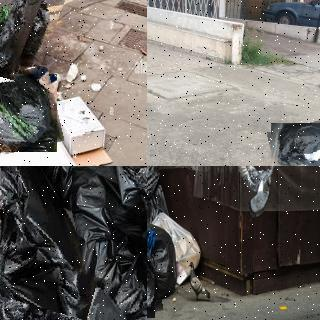Garbage: (0, 166, 79, 319), (0, 247, 147, 320), (0, 69, 60, 156), (1, 0, 60, 63), (0, 0, 28, 94), (268, 118, 320, 166), (147, 222, 177, 298)
